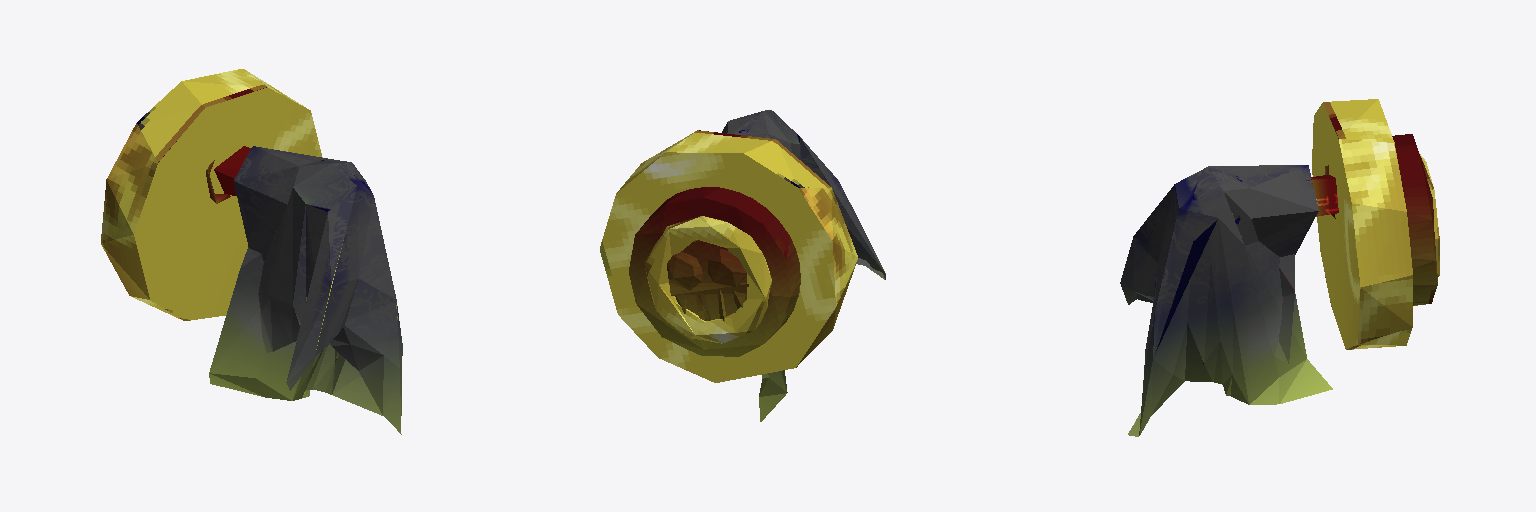
3 renders of one model, left to right at view 1: azimuth 30°, elevation 25°; view 2: azimuth 150°, elevation 25°; view 3: azimuth 270°, elevation 25°, orthographic.
Visible parts, largest first — view 1: Plane.006; view 2: Plane.006; view 3: Plane.006.
Boxes of the visible parts, box(x1,y1,x2,y2) form: Plane.006: box(101, 69, 402, 434); Plane.006: box(600, 110, 885, 421); Plane.006: box(1120, 99, 1439, 436).
Size of the model in its own units: 2.25 by 2.79 by 2.79.
Materials: 1 (1 with a texture image).